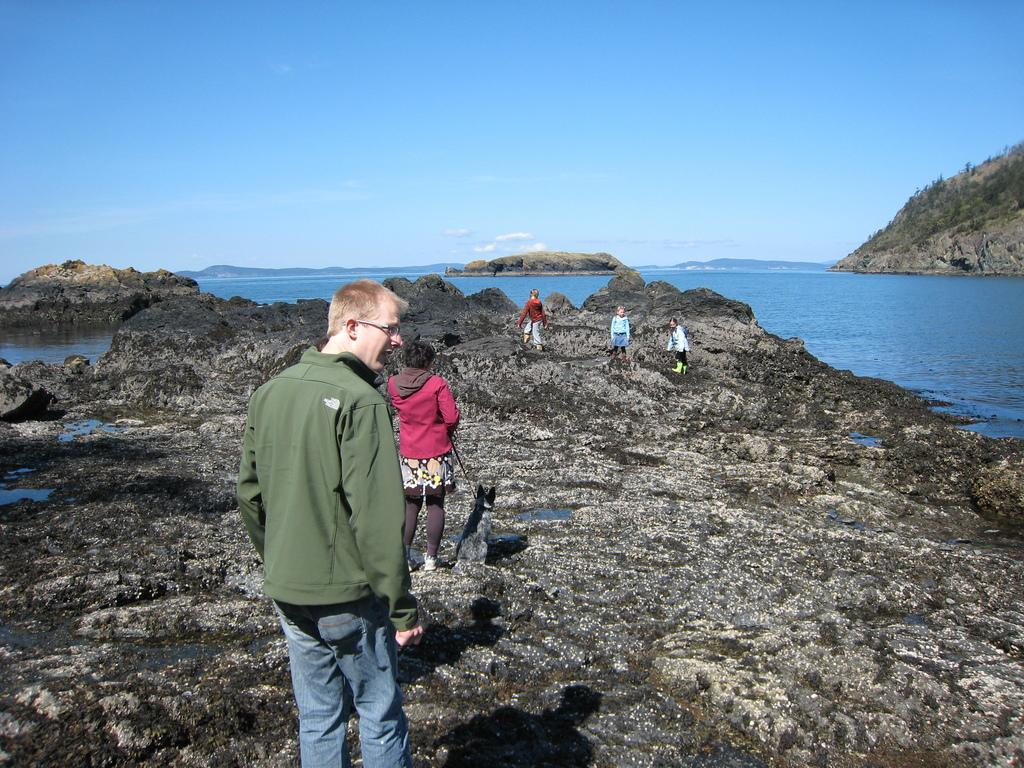no_helmet: (284, 296, 439, 391)
none: (237, 360, 434, 558)
